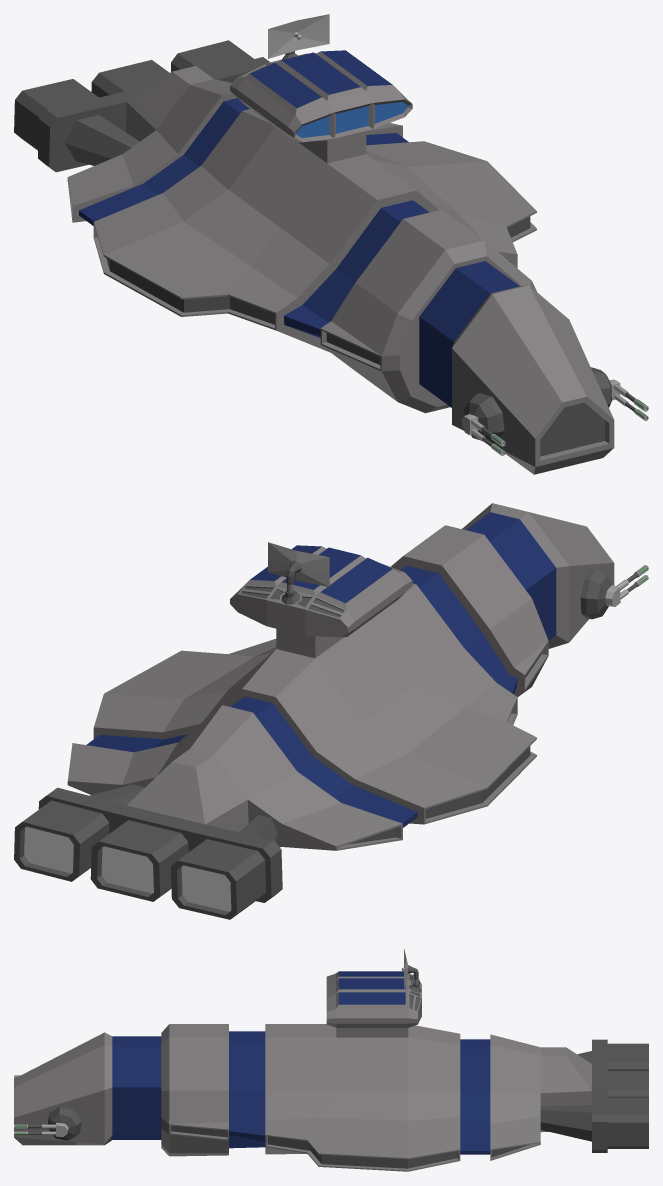
Rendered from spaceship_1.fbx.
3 renders of one model, top to bottom at view 1: azimuth 30°, elevation 25°; view 2: azimuth 150°, elevation 25°; view 3: azimuth 270°, elevation 25°, orthographic. The views are drawn at different scales.
Visible parts, largest first — view 1: spaceship_1; view 2: spaceship_1; view 3: spaceship_1.
Part boxes in pixels (left/top/right/bottom): spaceship_1: left=14, top=14, right=648, bottom=474; spaceship_1: left=14, top=503, right=648, bottom=919; spaceship_1: left=14, top=948, right=648, bottom=1171.
Bounding box in the file's own units: 2.15 × 1.39 × 4.36.
